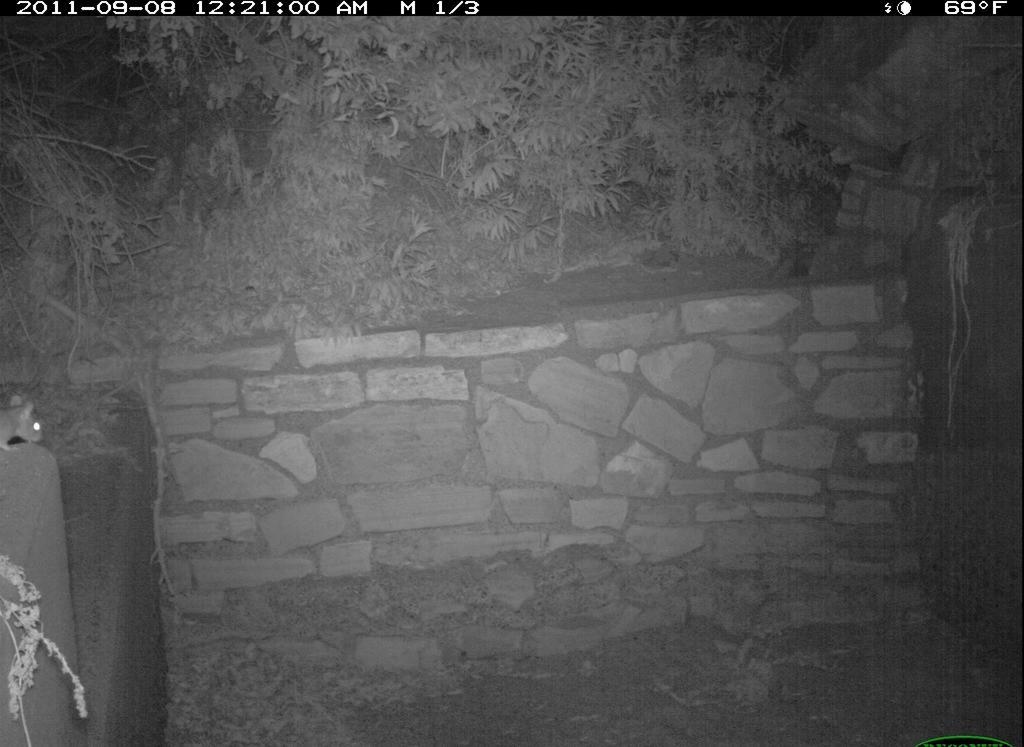rodent: (1, 388, 54, 452)
